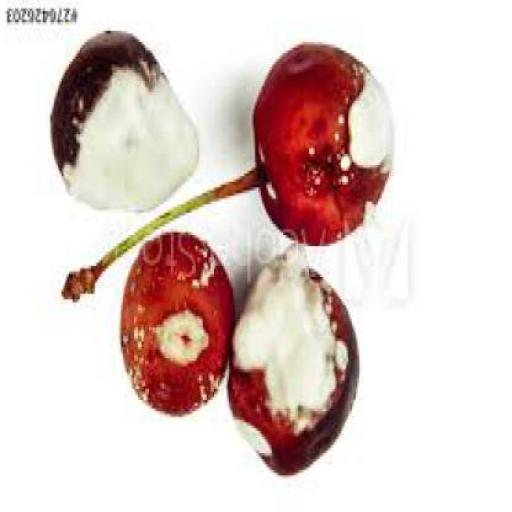biodegradable: (65, 48, 397, 302), (229, 249, 362, 481), (52, 34, 202, 218), (123, 238, 236, 420)
